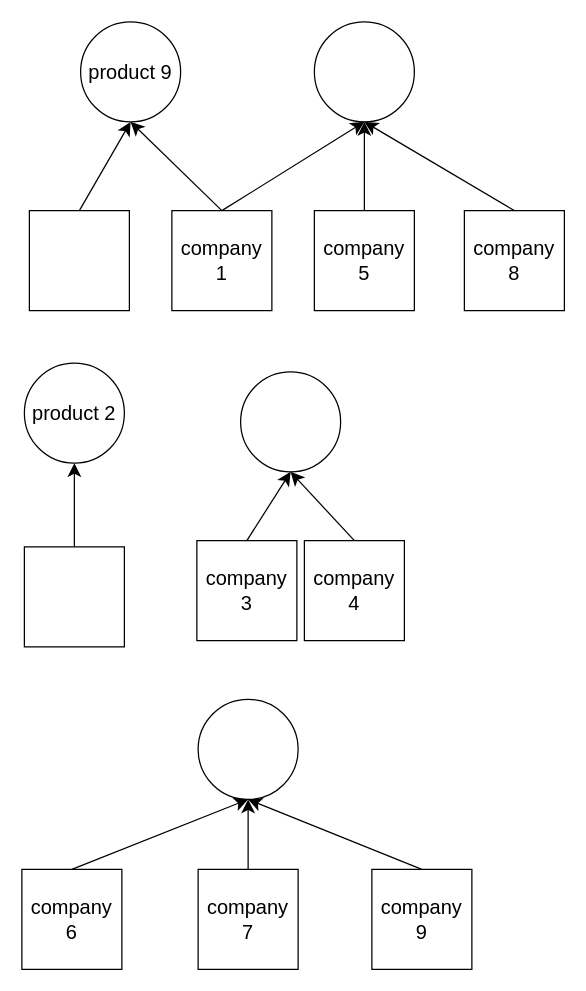
This 586x991 diagram has some shape labels left out. Each missing label, with the centre of its shape:
company 10: point 78,260
company 2: point 73,596
product 1: point 363,71
product 3: point 290,421
product 4: point 247,748
